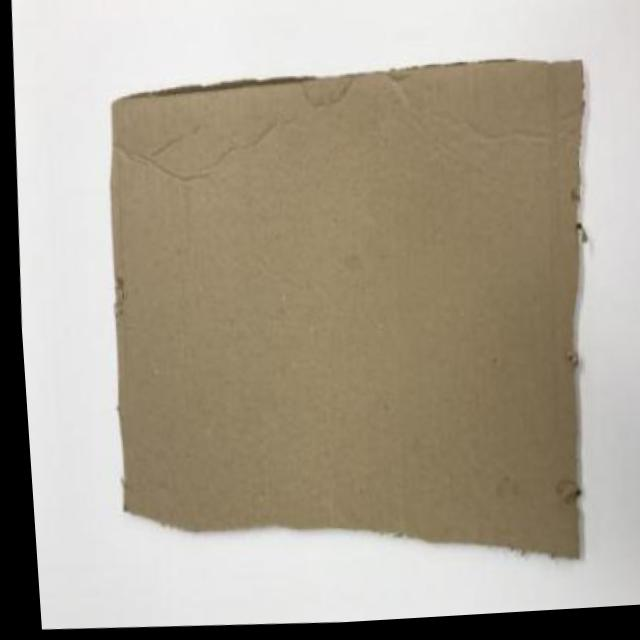box: (79, 39, 633, 623)
